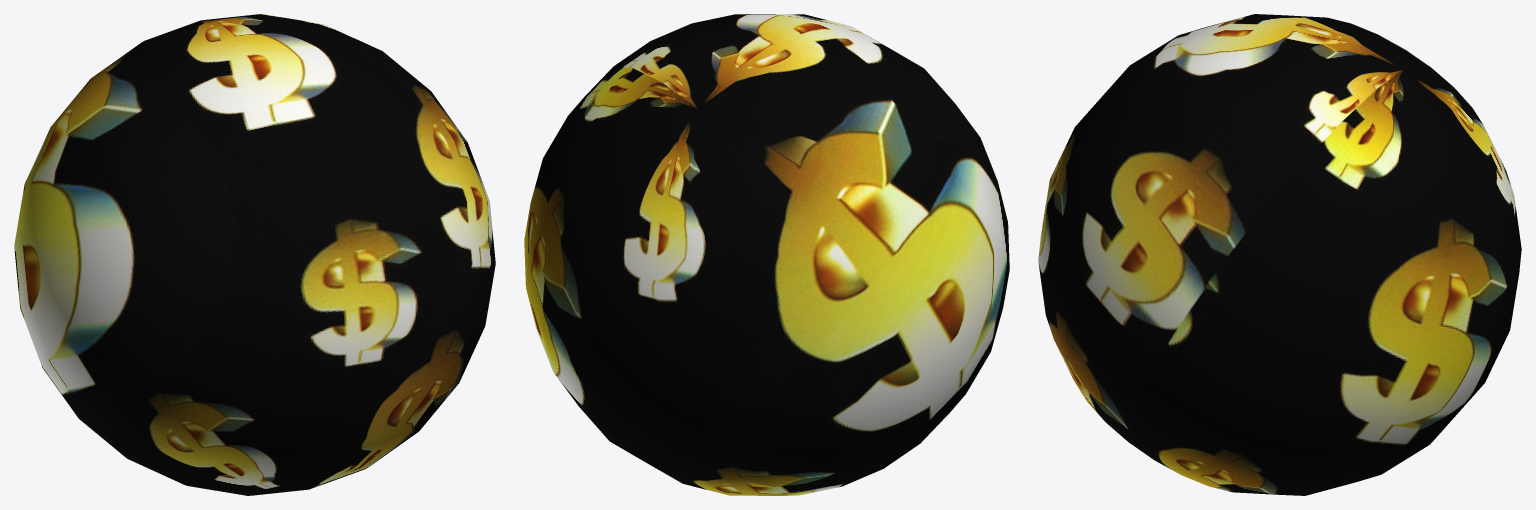
3 renders of one model, left to right at view 1: azimuth 30°, elevation 25°; view 2: azimuth 150°, elevation 25°; view 3: azimuth 270°, elevation 25°, orthographic.
Parts seen in each view (by area): view 1: Sphere; view 2: Sphere; view 3: Sphere.
Part boxes in pixels (box(x1,y1,x2,y2)): Sphere: box(14, 14, 495, 495); Sphere: box(524, 14, 1009, 495); Sphere: box(1038, 14, 1521, 495).
Size of the model in its own units: 129 by 130 by 130.
Materials: 1 (1 with a texture image).
